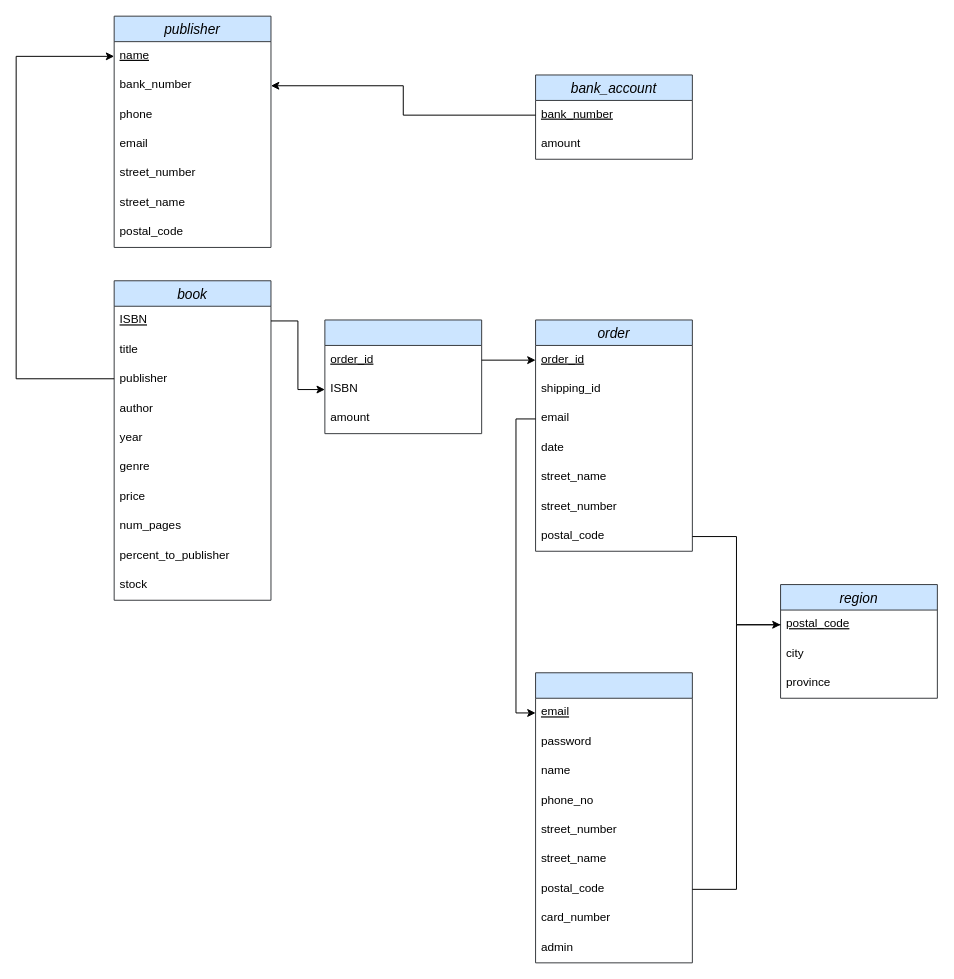
Some shapes in this 954 by 979 pixel diagram are drawn without their labels. The box of each missing label's shape, as (x1, y1, x2, y2) in pixels:
books_in_order: (324, 319, 482, 434)
customer: (535, 672, 692, 963)
